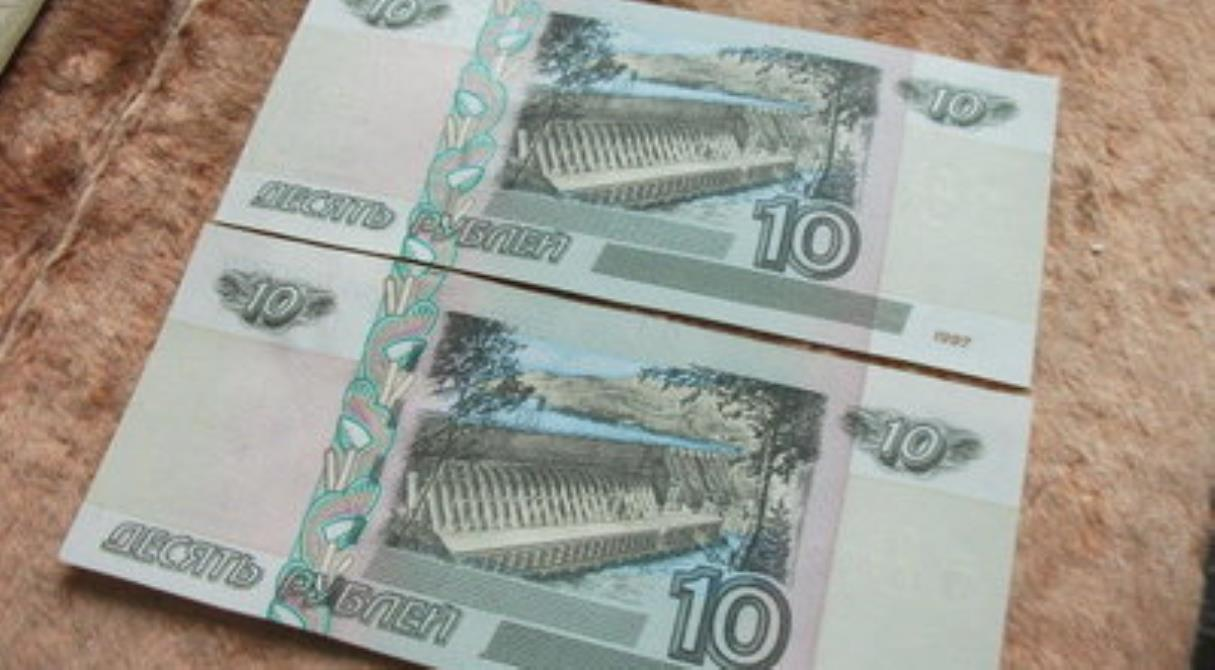cash: (58, 220, 1033, 670), (213, 1, 1058, 389)
